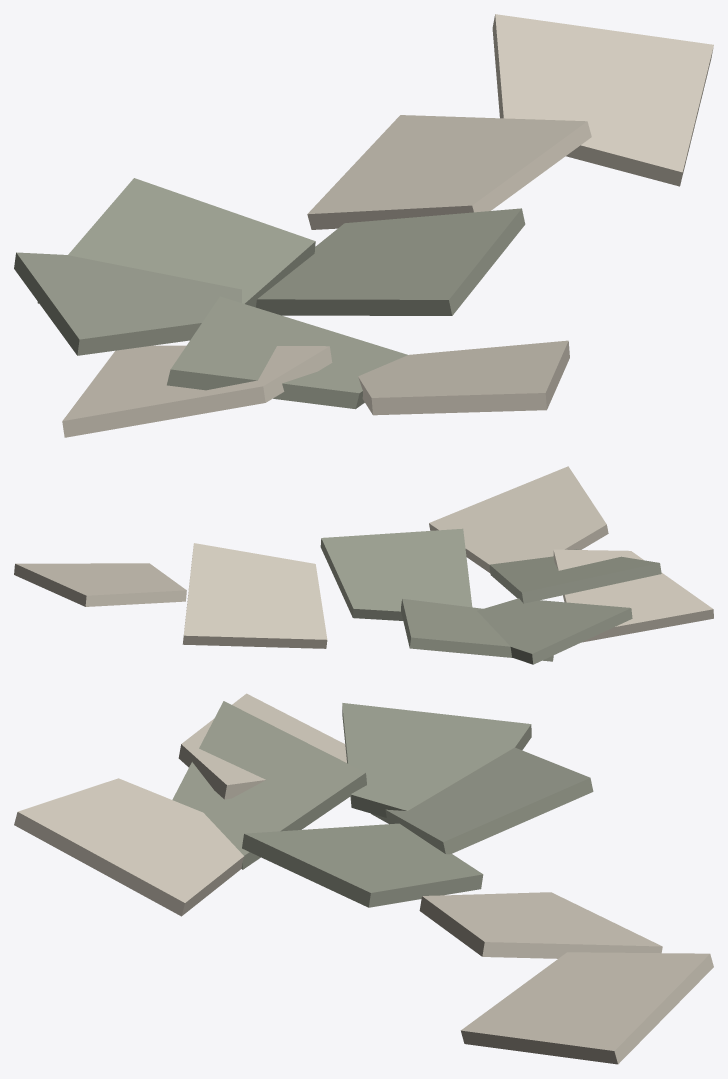
File: lab_debris_tiles.glb
The picture shows the model from 3 angles, top to bottom: view 1: azimuth 30°, elevation 25°; view 2: azimuth 150°, elevation 25°; view 3: azimuth 270°, elevation 25°; orthographic projection. The views are drawn at different scales.
Visible parts, largest first — view 1: lab_debris_tiles; view 2: lab_debris_tiles; view 3: lab_debris_tiles.
Boxes of the visible parts, x1,y1,x2,y2 form: lab_debris_tiles: (14,14,713,437); lab_debris_tiles: (14,466,713,664); lab_debris_tiles: (14,693,713,1064).
Bounding box in the file's own units: 2.25 × 0.203 × 1.8.
